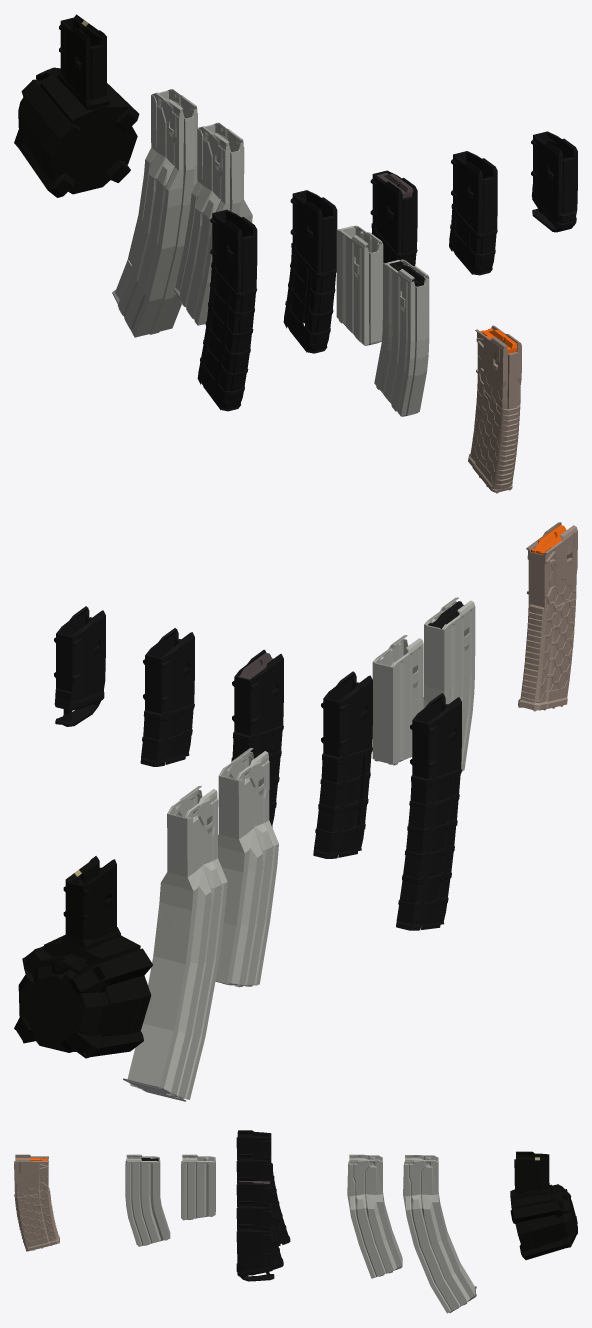
The model's file is mags.glb.
The picture shows the model from 3 angles, top to bottom: view 1: azimuth 30°, elevation 25°; view 2: azimuth 150°, elevation 25°; view 3: azimuth 270°, elevation 25°; orthographic projection. The views are drawn at different scales.
Visible parts, largest first — view 1: Magpul_PMAG_D60_15, SureFire_100rnd_13, PMAG_40_14, SureFire_60rnd_12, PMAG_30_m3_11, magazine_STANAG_30rnd_0, hexmag_3, PMAG_20_7, magazine_20rnd_2, PMAG_10_8, PMAG_30_5; view 2: SureFire_100rnd_13, Magpul_PMAG_D60_15, SureFire_60rnd_12, PMAG_40_14, PMAG_30_m3_11, hexmag_3, PMAG_20_7, magazine_20rnd_2, magazine_STANAG_30rnd_0, PMAG_30_5, PMAG_10_8, floorplate_ranger_9; view 3: SureFire_100rnd_13, Magpul_PMAG_D60_15, SureFire_60rnd_12, hexmag_3, magazine_STANAG_30rnd_0, magazine_20rnd_2, PMAG_10_8, PMAG_40_14, PMAG_30_m3_11, PMAG_30_5, PMAG_20_7, floorplate_ranger_9.
Boxes of the visible parts, box(x1,y1,x2,y2) form: Magpul_PMAG_D60_15: box(14, 14, 139, 197); SureFire_100rnd_13: box(112, 89, 197, 337); PMAG_40_14: box(197, 209, 257, 411); SureFire_60rnd_12: box(174, 122, 252, 325); PMAG_30_m3_11: box(283, 190, 337, 353); magazine_STANAG_30rnd_0: box(374, 259, 429, 416); hexmag_3: box(468, 325, 521, 493); PMAG_20_7: box(449, 151, 497, 275); magazine_20rnd_2: box(336, 225, 383, 345); PMAG_10_8: box(531, 131, 577, 223); PMAG_30_5: box(370, 170, 417, 265); SureFire_100rnd_13: box(123, 785, 227, 1101); Magpul_PMAG_D60_15: box(14, 856, 152, 1058); SureFire_60rnd_12: box(215, 748, 278, 987); PMAG_40_14: box(396, 693, 461, 930); PMAG_30_m3_11: box(313, 671, 372, 858); hexmag_3: box(518, 522, 577, 711); PMAG_20_7: box(140, 628, 194, 766); magazine_20rnd_2: box(372, 635, 423, 765); magazine_STANAG_30rnd_0: box(423, 597, 475, 771); PMAG_30_5: box(231, 649, 283, 827); PMAG_10_8: box(54, 606, 105, 708); floorplate_ranger_9: box(55, 693, 104, 726); SureFire_100rnd_13: box(403, 1155, 476, 1313); Magpul_PMAG_D60_15: box(510, 1151, 577, 1259); SureFire_60rnd_12: box(347, 1154, 402, 1278); hexmag_3: box(14, 1154, 59, 1251); magazine_STANAG_30rnd_0: box(125, 1154, 170, 1246); magazine_20rnd_2: box(181, 1154, 215, 1220); PMAG_10_8: box(236, 1224, 273, 1273); PMAG_40_14: box(236, 1130, 290, 1245); PMAG_30_m3_11: box(236, 1154, 283, 1242); PMAG_30_5: box(236, 1177, 283, 1267); PMAG_20_7: box(236, 1201, 277, 1265); floorplate_ranger_9: box(237, 1269, 274, 1281).
Bounding box in the file's own units: 0.4255 × 0.306 × 1.01.
1 material, 1 textured.
